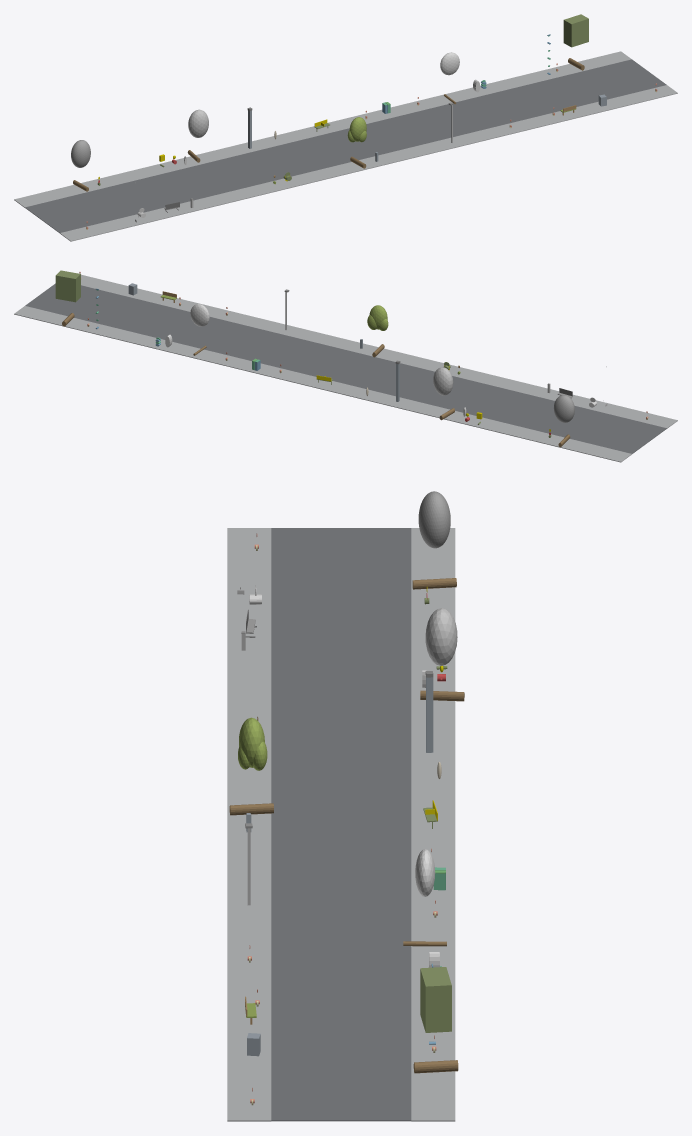
3 views of the same model, one above another, from view 1: azimuth 30°, elevation 25°; view 2: azimuth 150°, elevation 25°; view 3: azimuth 270°, elevation 25° (orthographic). The views are drawn at different scales.
Parts seen in each view (by area): view 1: road_slab, sidewalk_left, sidewalk_right, inst_0016, inst_0013, inst_0012, inst_0014, inst_0015; view 2: road_slab, sidewalk_right, sidewalk_left, inst_0016, inst_0013, inst_0012, inst_0014, inst_0015; view 3: road_slab, sidewalk_left, sidewalk_right, inst_0016, inst_0012, inst_0013, inst_0014, inst_0015.
Part boxes in pixels (bbox=[...]): road_slab: bbox=[25, 59, 666, 233]; sidewalk_left: bbox=[60, 85, 677, 241]; sidewalk_right: bbox=[14, 51, 631, 207]; inst_0016: bbox=[563, 14, 588, 70]; inst_0013: bbox=[187, 109, 208, 162]; inst_0012: bbox=[71, 140, 90, 191]; inst_0014: bbox=[347, 117, 366, 168]; inst_0015: bbox=[440, 52, 459, 104]; road_slab: bbox=[25, 283, 666, 453]; sidewalk_right: bbox=[14, 306, 631, 462]; sidewalk_left: bbox=[81, 274, 677, 428]; inst_0016: bbox=[55, 270, 80, 326]; inst_0013: bbox=[433, 367, 454, 420]; inst_0012: bbox=[553, 395, 574, 447]; inst_0014: bbox=[367, 305, 388, 357]; inst_0015: bbox=[190, 304, 209, 355]; road_slab: bbox=[271, 528, 411, 1121]; sidewalk_left: bbox=[227, 528, 271, 1121]; sidewalk_right: bbox=[411, 528, 455, 1121]; inst_0016: bbox=[413, 967, 458, 1073]; inst_0012: bbox=[412, 491, 456, 589]; inst_0013: bbox=[420, 608, 464, 701]; inst_0014: bbox=[229, 717, 273, 815]; inst_0015: bbox=[403, 849, 446, 946].
Size of the model in its own units: 80 by 6.08 by 13.53.
